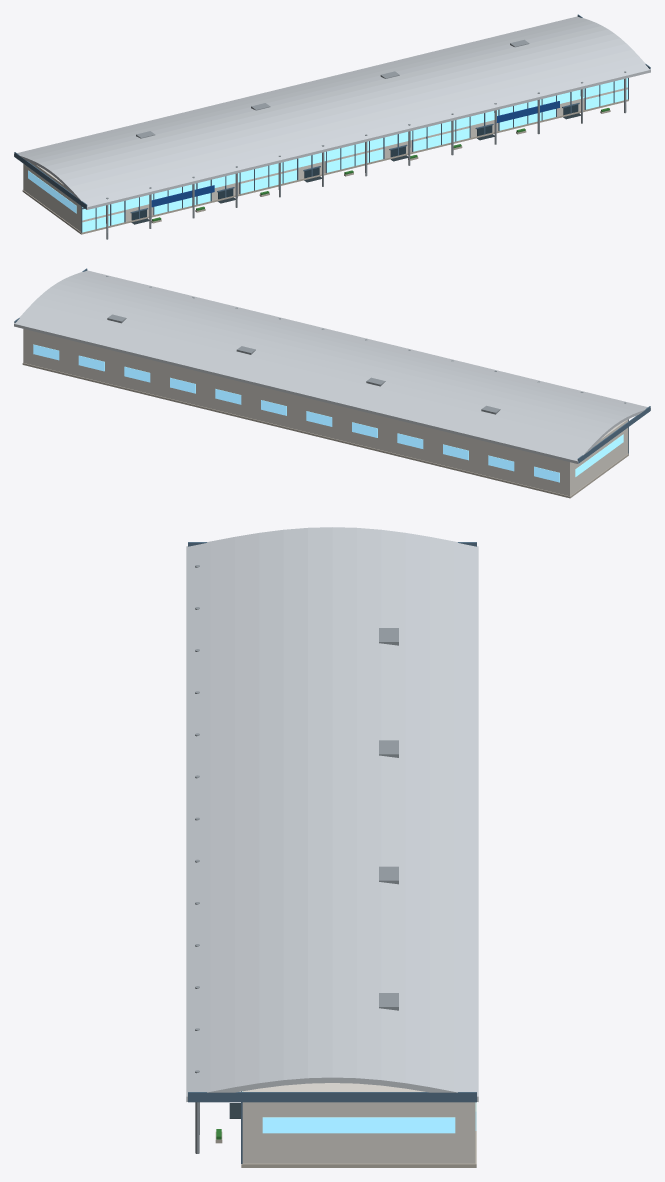
File: airport_facade.glb
The picture shows the model from 3 angles, top to bottom: view 1: azimuth 30°, elevation 25°; view 2: azimuth 150°, elevation 25°; view 3: azimuth 270°, elevation 25°; orthographic projection. The views are drawn at different scales.
Visible parts, largest first — view 1: AirportTerminal_body; view 2: AirportTerminal_body; view 3: AirportTerminal_body.
Boxes of the visible parts, left/top/right/bottom form: AirportTerminal_body: left=14, top=14, right=650, bottom=239; AirportTerminal_body: left=14, top=268, right=650, bottom=498; AirportTerminal_body: left=186, top=527, right=478, bottom=1167.
Bounding box in the file's own units: 196 × 16.3 × 44.
